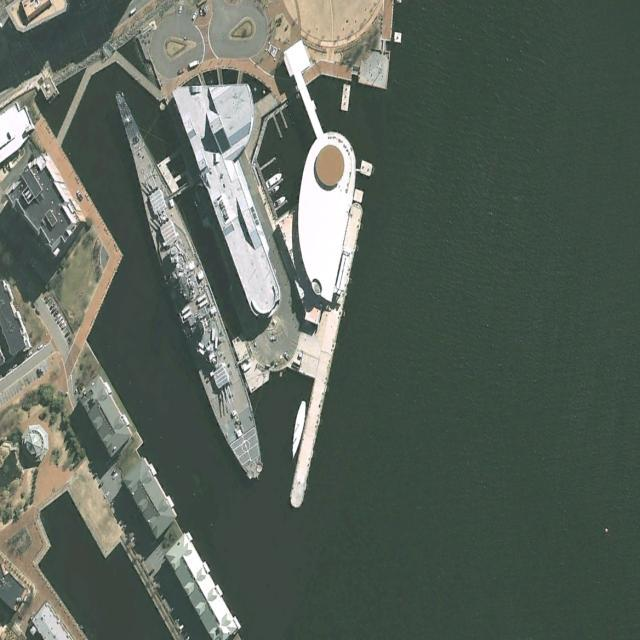Other Warship: (104, 75, 273, 491)
